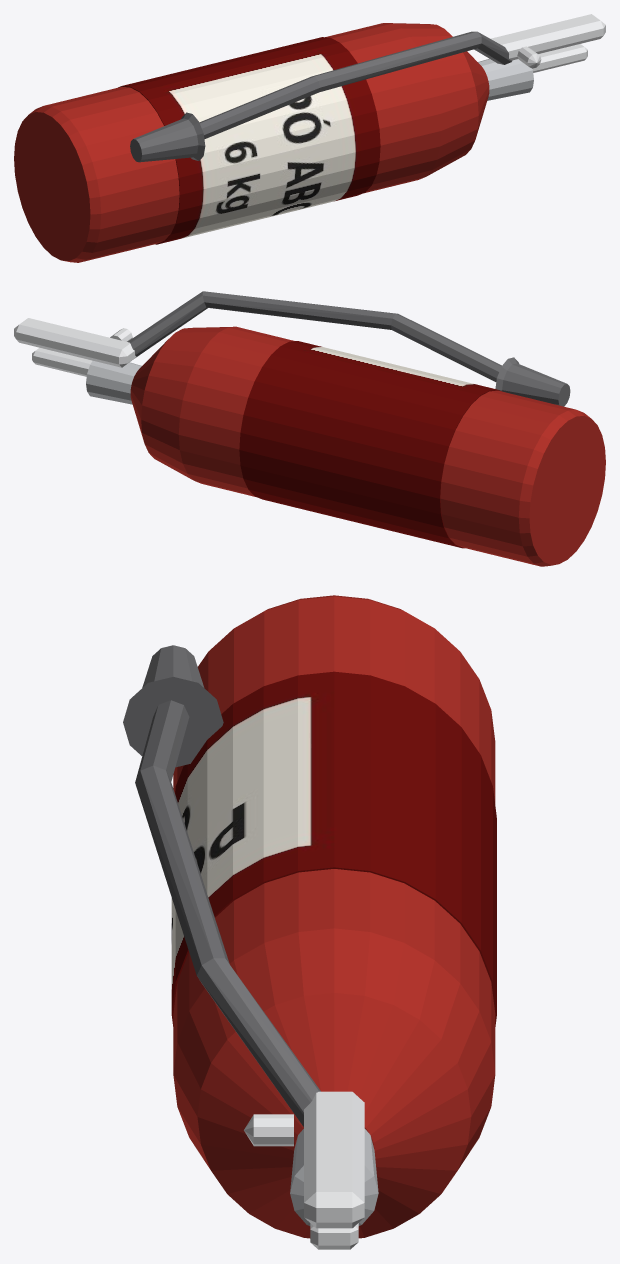
File: extintor.glb
3 renders of one model, top to bottom at view 1: azimuth 30°, elevation 25°; view 2: azimuth 150°, elevation 25°; view 3: azimuth 270°, elevation 25°, orthographic. The views are drawn at different scales.
Visible parts, largest first — view 1: extintor_vermelho_bombeiro, extintor_rotulo_extintor, extintor_plastico_preto, extintor_aco_polido, extintor_aco; view 2: extintor_vermelho_bombeiro, extintor_rotulo_extintor, extintor_plastico_preto, extintor_aco_polido, extintor_aco; view 3: extintor_vermelho_bombeiro, extintor_rotulo_extintor, extintor_plastico_preto, extintor_aco_polido, extintor_aco.
Boxes of the visible parts, bbox=[...] form: extintor_vermelho_bombeiro: bbox=[14, 23, 489, 262]; extintor_rotulo_extintor: bbox=[118, 37, 380, 244]; extintor_plastico_preto: bbox=[130, 31, 512, 162]; extintor_aco_polido: bbox=[490, 14, 605, 72]; extintor_aco: bbox=[478, 58, 533, 100]; extintor_vermelho_bombeiro: bbox=[130, 326, 605, 566]; extintor_rotulo_extintor: bbox=[239, 341, 501, 548]; extintor_plastico_preto: bbox=[128, 291, 570, 406]; extintor_aco_polido: bbox=[14, 318, 136, 376]; extintor_aco: bbox=[86, 361, 141, 404]; extintor_vermelho_bombeiro: bbox=[173, 595, 495, 1238]; extintor_rotulo_extintor: bbox=[171, 671, 496, 1026]; extintor_plastico_preto: bbox=[123, 645, 320, 1126]; extintor_aco_polido: bbox=[244, 1091, 364, 1249]; extintor_aco: bbox=[290, 1129, 378, 1225].
Bounding box in the file's own units: 0.63 × 0.1798 × 0.1858.
5 materials, 1 textured.
